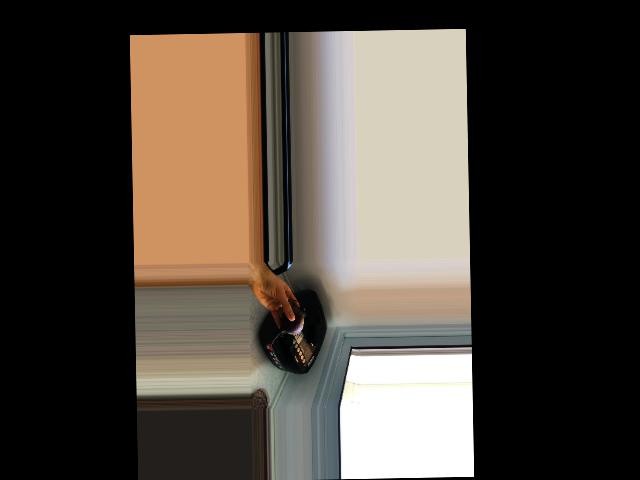beet: (269, 300, 306, 345)
